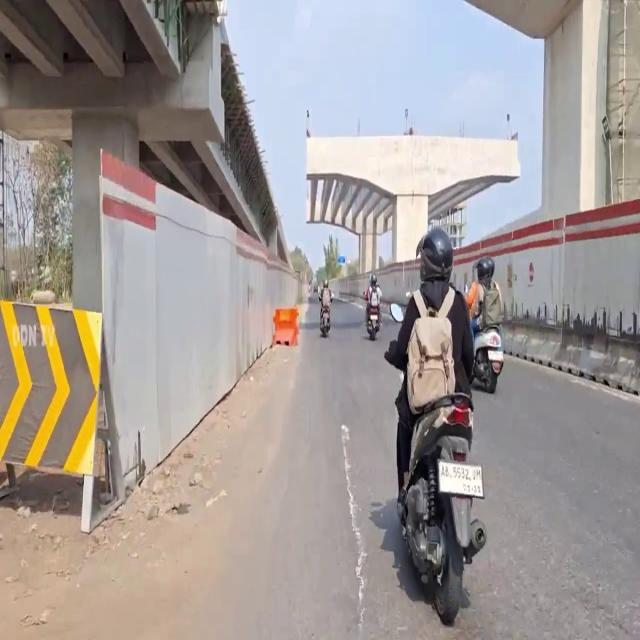WithHelmet: (384, 226, 475, 506), (465, 256, 504, 333), (364, 273, 383, 327), (319, 280, 333, 324)
